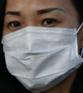with_mask: (1, 2, 83, 93)
